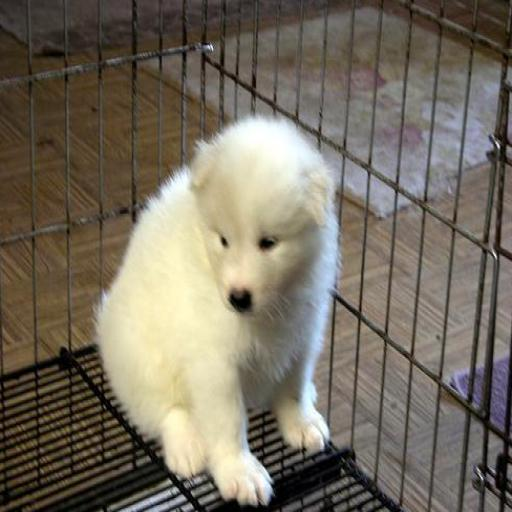dog_face: (185, 142, 325, 320)
